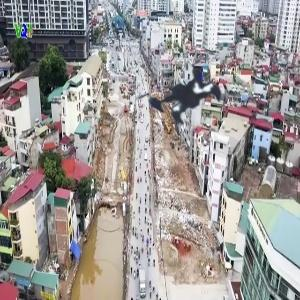drone: (118, 27, 257, 166)
